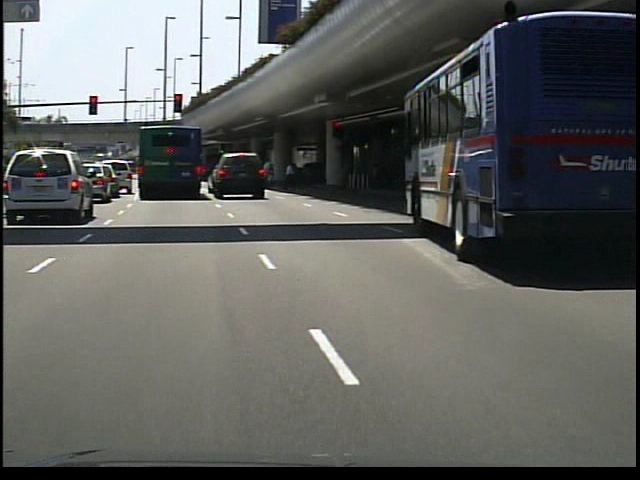person: (281, 157, 301, 194)
